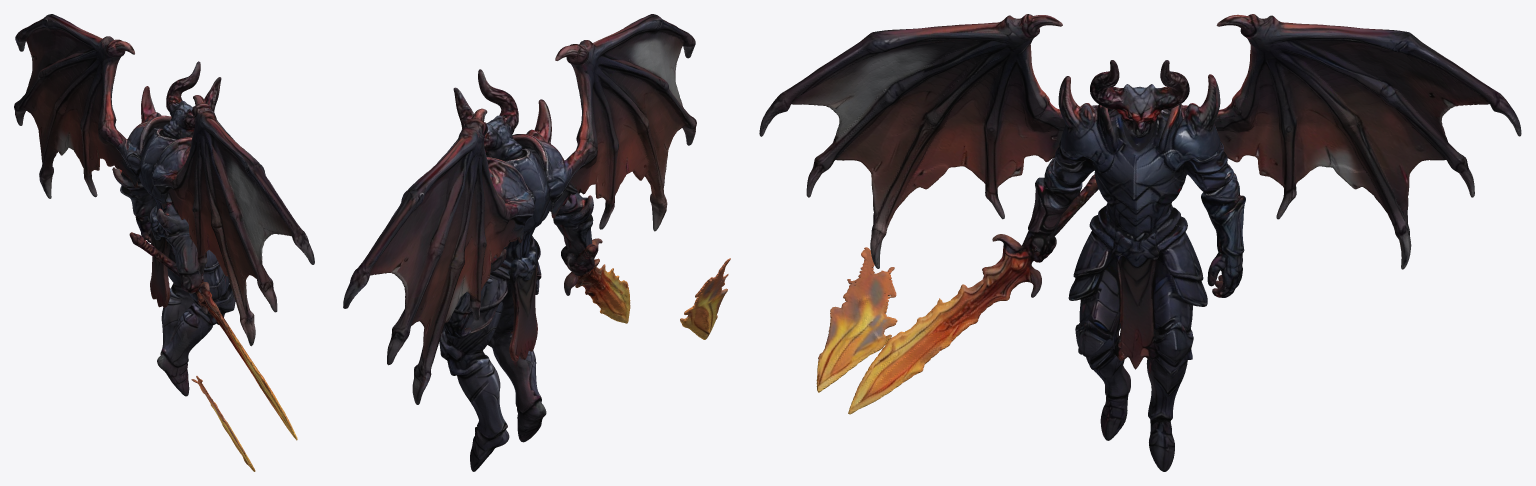
Rendered from floor8-demon-knight-v2.glb.
3 views of the same model, side by side, from view 1: azimuth 30°, elevation 25°; view 2: azimuth 150°, elevation 25°; view 3: azimuth 270°, elevation 25° (orthographic). The views are drawn at different scales.
Visible parts, largest first — view 1: tripo_node_ffc9feb3-7811-4257-9953-8b7c60fcc16b; view 2: tripo_node_ffc9feb3-7811-4257-9953-8b7c60fcc16b; view 3: tripo_node_ffc9feb3-7811-4257-9953-8b7c60fcc16b.
Part boxes in pixels (x1,y1,x2,y2): tripo_node_ffc9feb3-7811-4257-9953-8b7c60fcc16b: [14, 14, 314, 471]; tripo_node_ffc9feb3-7811-4257-9953-8b7c60fcc16b: [343, 14, 730, 471]; tripo_node_ffc9feb3-7811-4257-9953-8b7c60fcc16b: [759, 14, 1521, 471].
Bounding box in the file's own units: 0.2545 × 0.6311 × 1.
Materials: 1 (1 with a texture image).
